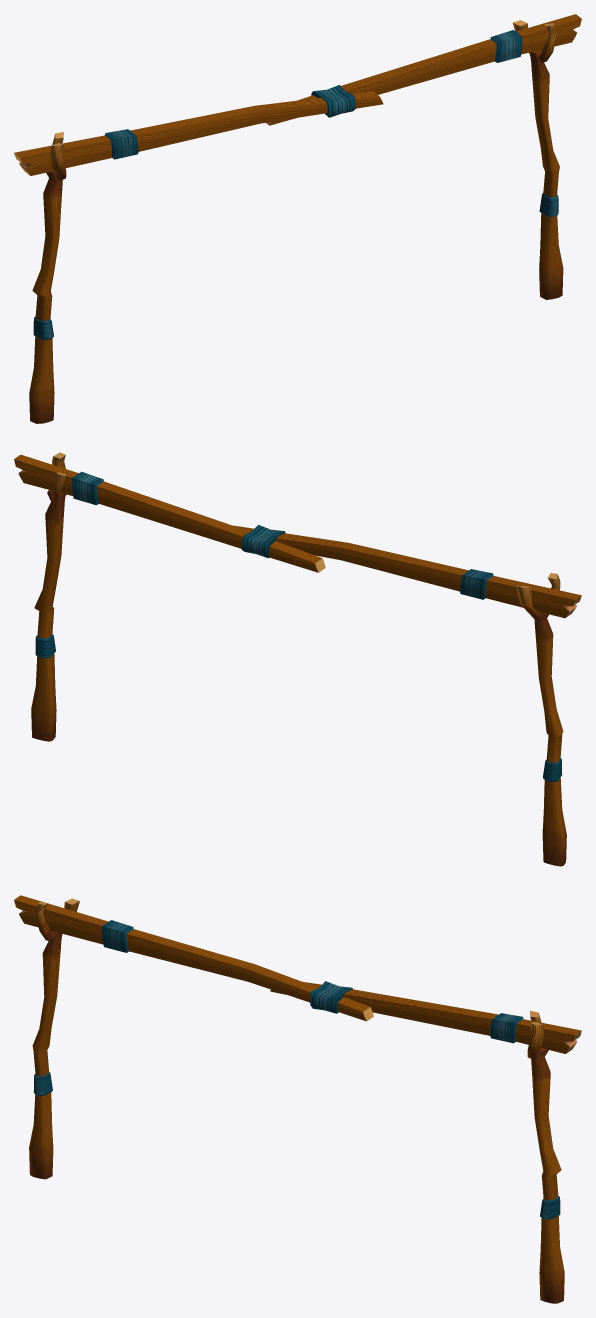
Rendered from Trave.fbx.
3 renders of one model, top to bottom at view 1: azimuth 30°, elevation 25°; view 2: azimuth 150°, elevation 25°; view 3: azimuth 330°, elevation 25°, orthographic.
Visible parts, largest first — view 1: trave; view 2: trave; view 3: trave.
Part boxes in pixels (box(x1,y1,x2,y2)): trave: box(14, 14, 581, 423); trave: box(14, 452, 581, 866); trave: box(14, 895, 581, 1303).
Bounding box in the file's own units: 1491 × 708 × 94.15.
1 material, 1 textured.
